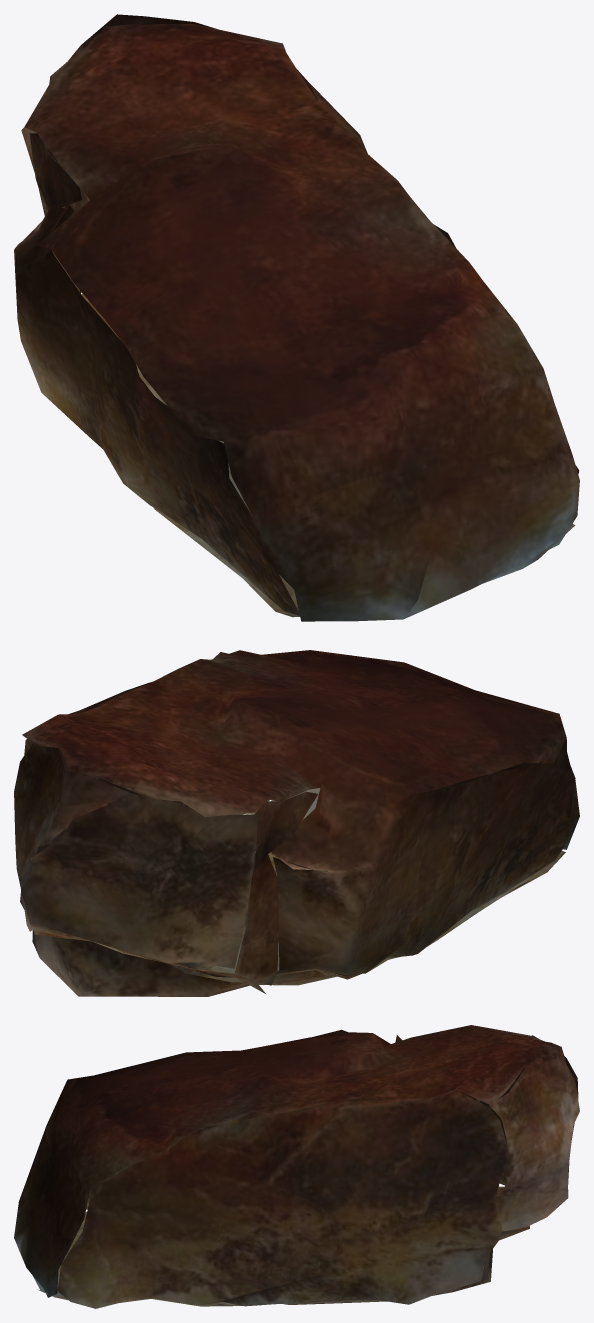
The model's file is rock_07.glb.
The picture shows the model from 3 angles, top to bottom: view 1: azimuth 30°, elevation 25°; view 2: azimuth 150°, elevation 25°; view 3: azimuth 270°, elevation 25°; orthographic projection. The views are drawn at different scales.
Visible parts, largest first — view 1: rock_07; view 2: rock_07; view 3: rock_07.
Boxes of the visible parts, left/top/right/bottom form: rock_07: left=14, top=14, right=579, bottom=621; rock_07: left=14, top=650, right=579, bottom=996; rock_07: left=14, top=1025, right=579, bottom=1308.
Bounding box in the file's own units: 0.1693 × 0.1439 × 0.3206.
Materials: 1 (1 with a texture image).
